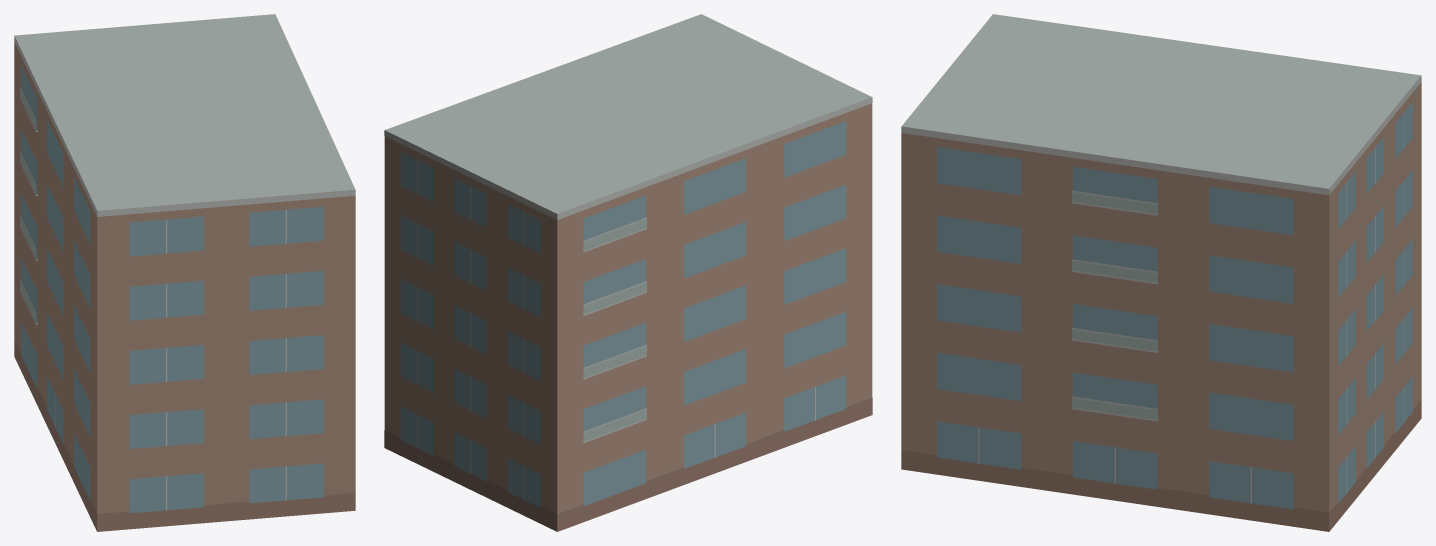
The model's file is survey-upis-32875206.glb.
3 renders of one model, left to right at view 1: azimuth 30°, elevation 25°; view 2: azimuth 150°, elevation 25°; view 3: azimuth 270°, elevation 25°, orthographic. The views are drawn at different scales.
Visible parts, largest first — view 1: survey-upis-32875206.tmp; view 2: survey-upis-32875206.tmp; view 3: survey-upis-32875206.tmp.
Boxes of the visible parts, x1,y1,x2,y2 form: survey-upis-32875206.tmp: (14, 14, 355, 531); survey-upis-32875206.tmp: (384, 14, 872, 531); survey-upis-32875206.tmp: (901, 14, 1421, 531).
Size of the model in its own units: 14.23 by 13 by 17.88.
